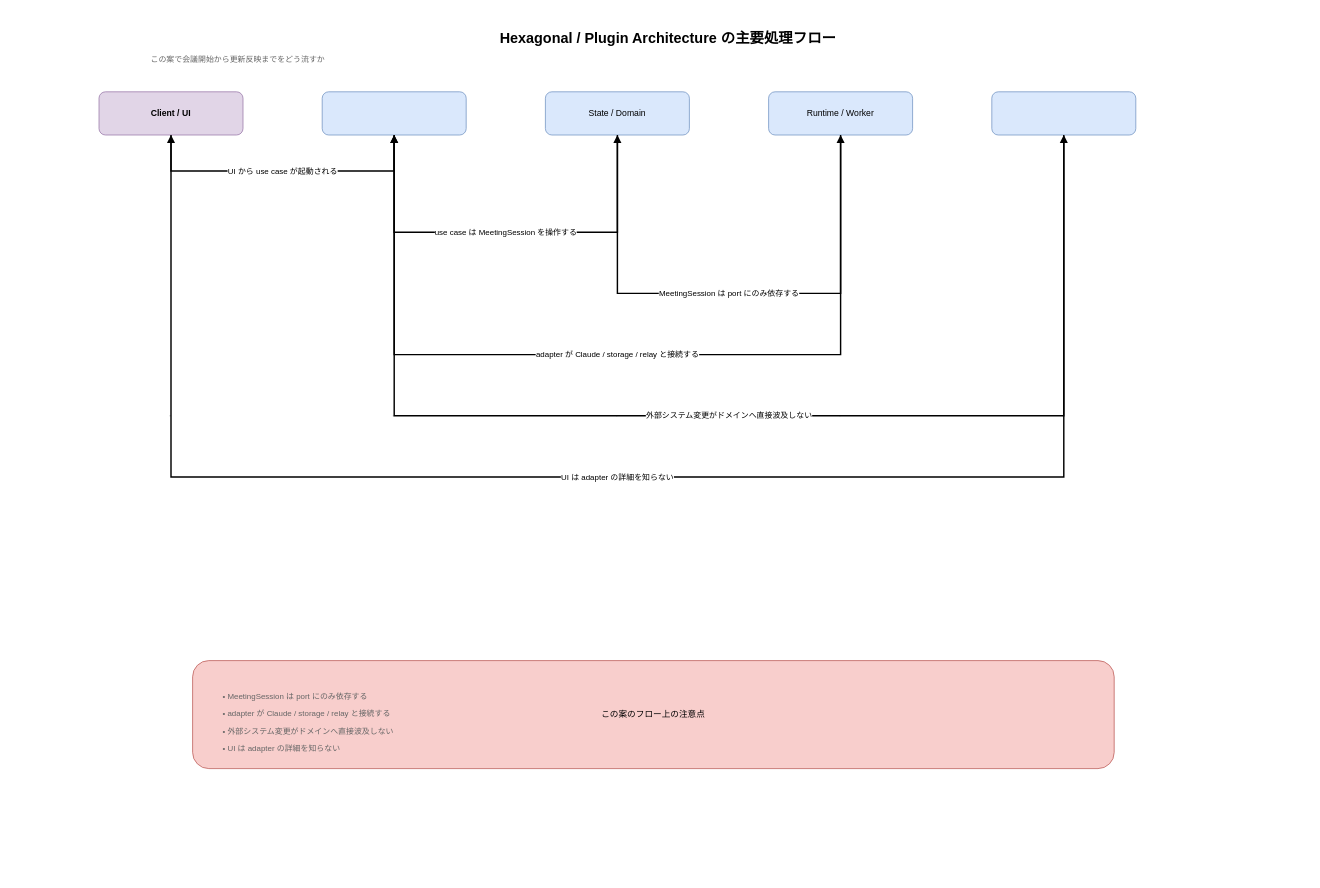
Image size: 1320x888. Some labels were removed from this diagram. Here are the shapes that lost their labels. From the top down, the centre of each, then its label:
the point at 393,113: Coordinator
the point at 1063,113: Updates / Output
